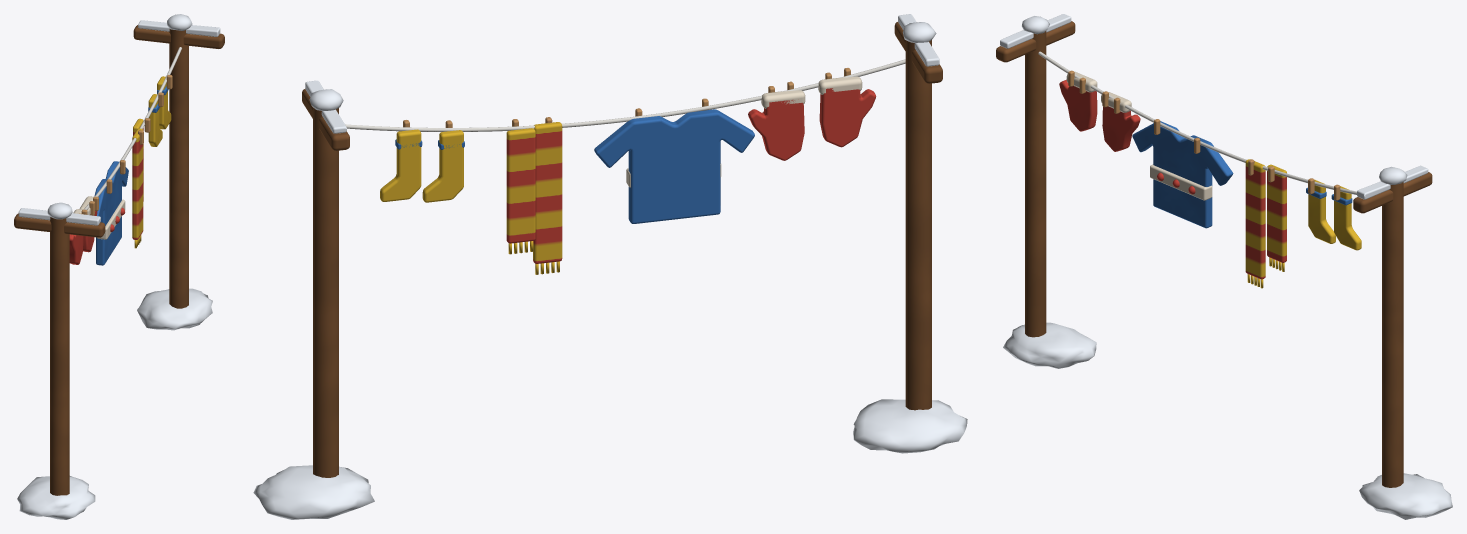
File: clothesline.glb
The picture shows the model from 3 angles, left to right: view 1: azimuth 30°, elevation 25°; view 2: azimuth 150°, elevation 25°; view 3: azimuth 270°, elevation 25°; orthographic projection. The views are drawn at different scales.
Parts seen in each view (by area): view 1: band, line; view 2: band, line; view 3: band, line.
Part boxes in pixels (x1,y1,x2,y2): band: [14, 14, 224, 519]; line: [84, 47, 181, 209]; band: [253, 14, 967, 519]; line: [345, 59, 905, 131]; band: [996, 14, 1452, 519]; line: [1038, 51, 1356, 194].
Bounding box in the file's own units: 2.24 × 1.86 × 2.26.
Materials: 2 (1 with a texture image).
